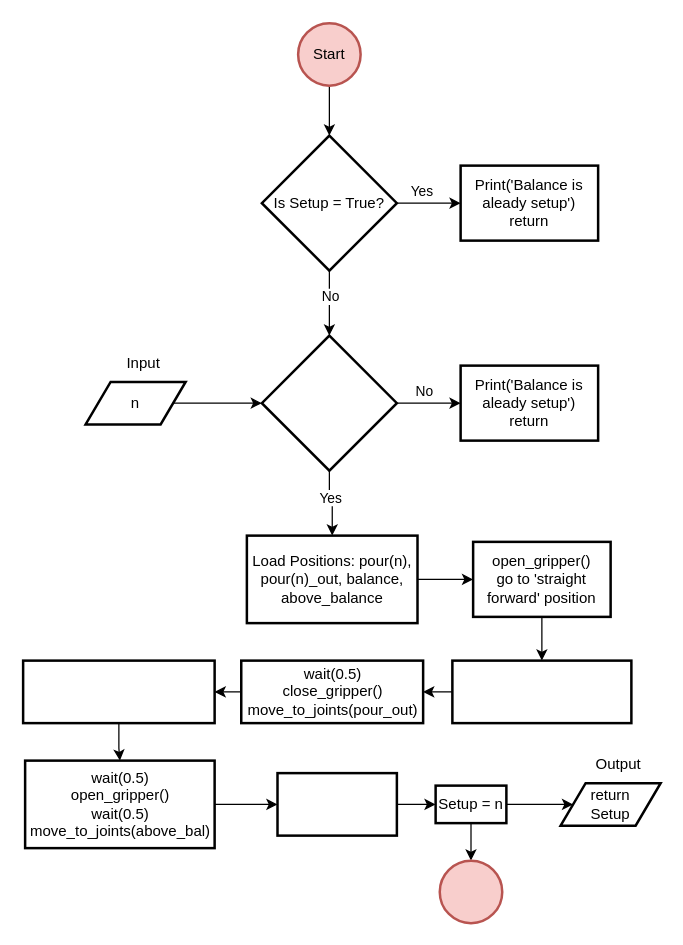
Some shapes in this 683 by 945 pixel diagram are drawn without their labels. The box of each missing label's shape, as (x1, y1, x2, y2) in pixels:
End: (438, 859, 503, 924)
Is n between 1 & 4?: (260, 334, 398, 471)
Set the balance to zero: (276, 771, 398, 836)
wait(0.5) move_to_joints(above_bal) move_to_joints(balance): (21, 659, 215, 724)
wait(1) move_to_joints(pour_out) move_to_joints(pour, 0.2): (450, 659, 632, 724)
